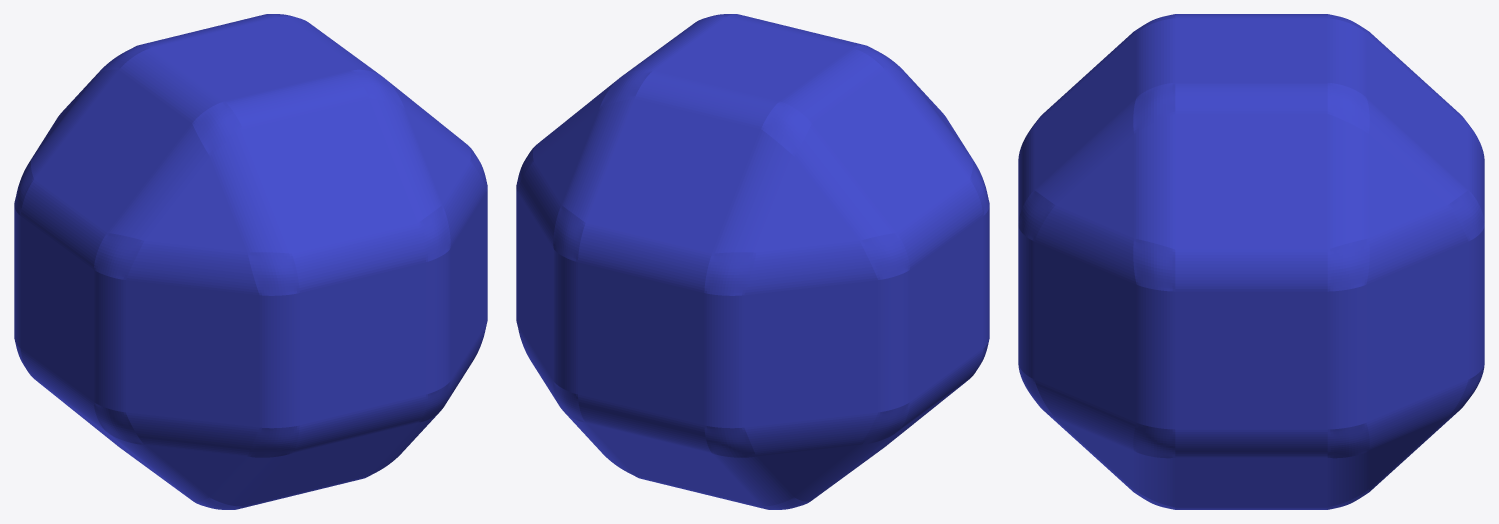
The model's file is ksztalt.obj.
3 renders of one model, left to right at view 1: azimuth 30°, elevation 25°; view 2: azimuth 150°, elevation 25°; view 3: azimuth 270°, elevation 25°, orthographic. The views are drawn at different scales.
Visible parts, largest first — view 1: Cube; view 2: Cube; view 3: Cube.
Part boxes in pixels (<box>): Cube: <box>14,14,487,509</box>; Cube: <box>516,14,989,509</box>; Cube: <box>1018,14,1484,509</box>.
Size of the model in its own units: 0.328 by 0.328 by 0.328.
1 material, 1 textured.
